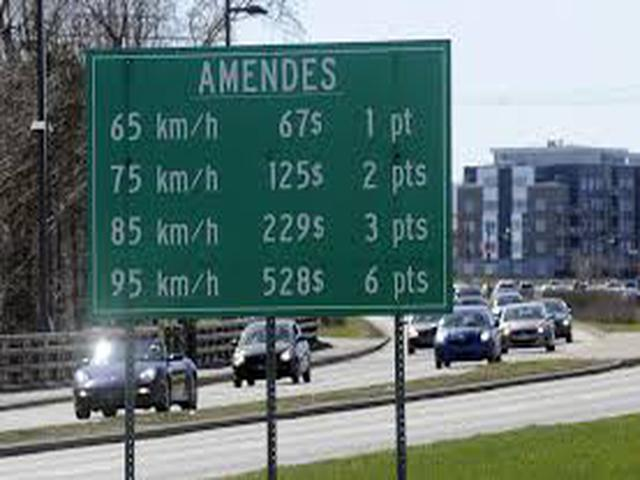autre: (93, 51, 451, 309)
